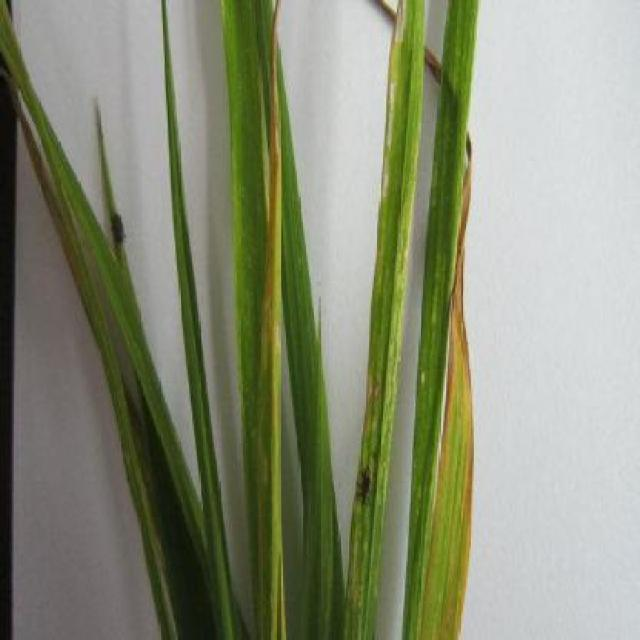rice-bug: (355, 462, 376, 509), (109, 212, 128, 246)
